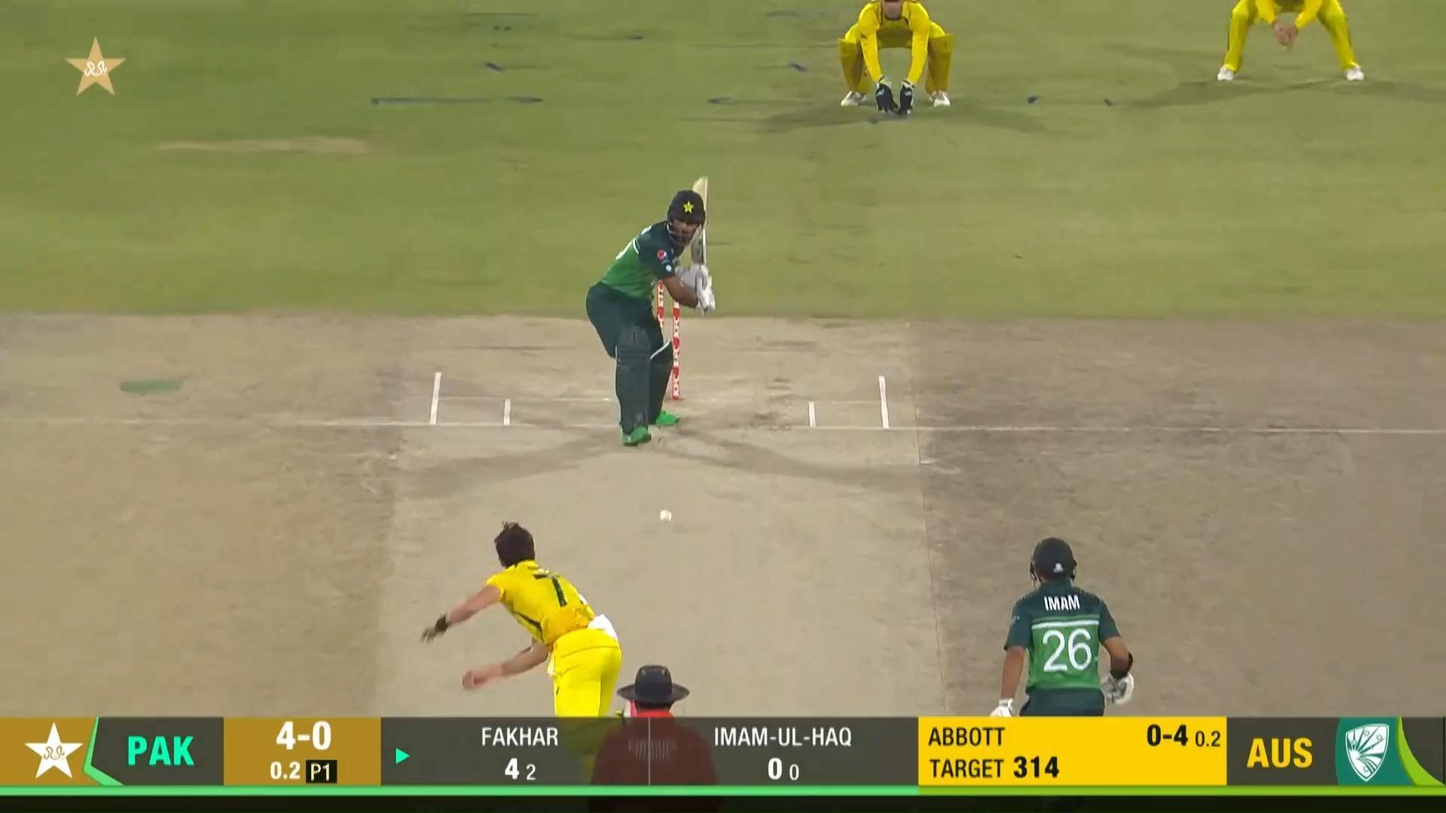BM 1: (586, 175, 716, 446)
BO: (420, 520, 624, 746)
